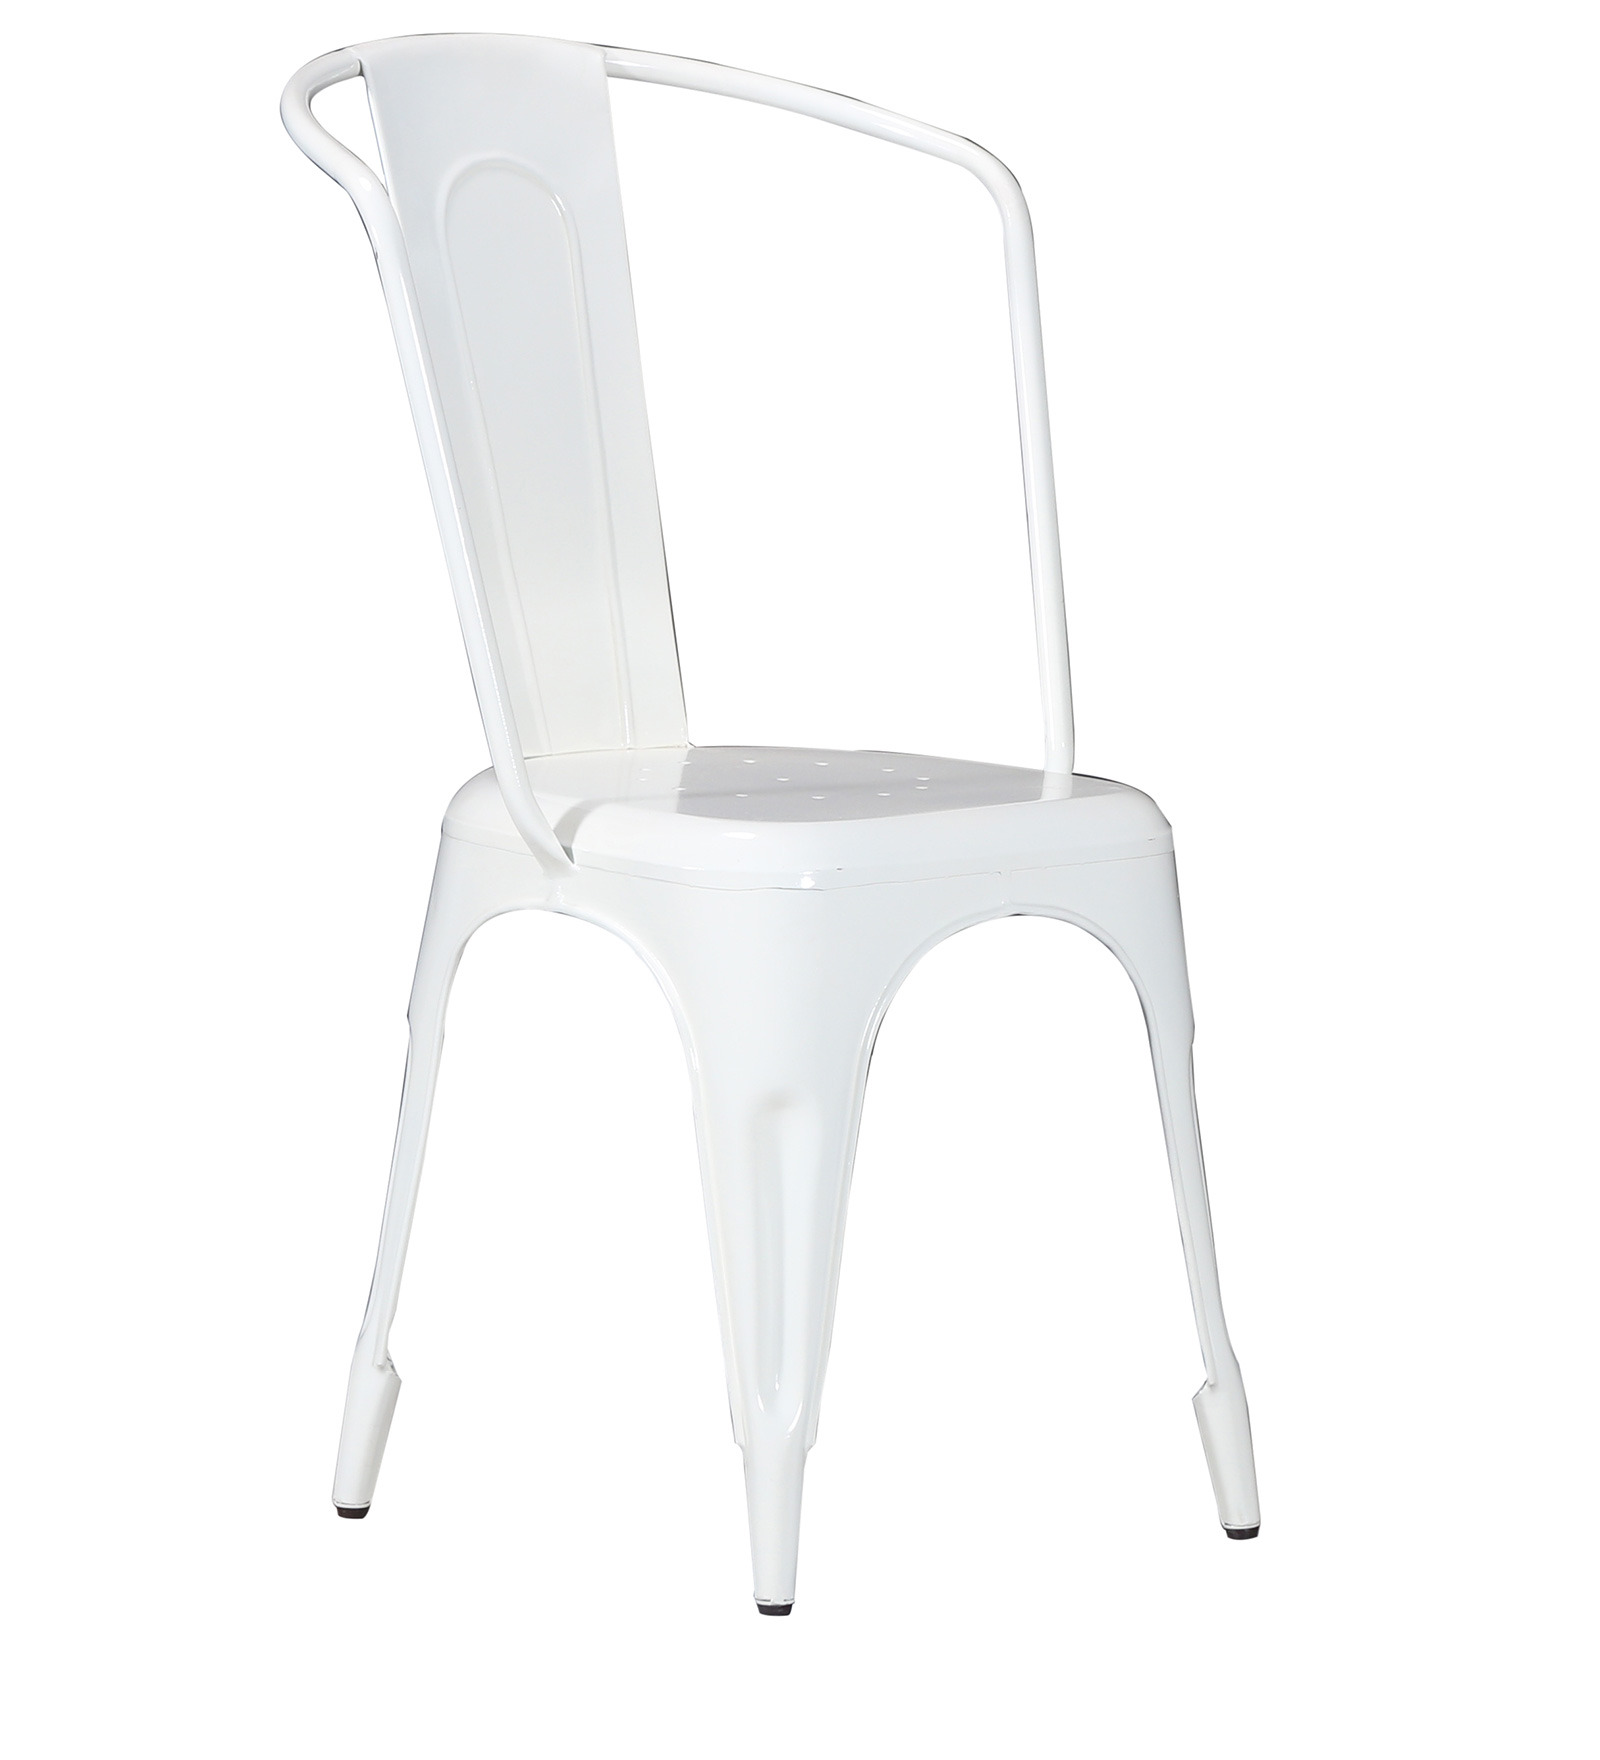Ekati Metal Chair in White Color by Bohemiana: (247, 17, 1309, 1674)
